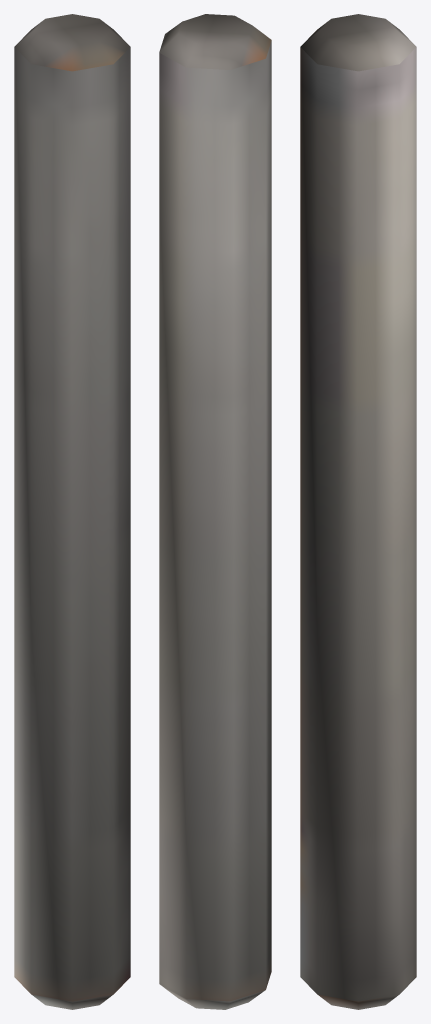
File: animal_company_-_metal_rod.glb
3 views of the same model, side by side, from view 1: azimuth 90°, elevation 25°; view 2: azimuth 150°, elevation 25°; view 3: azimuth 270°, elevation 25° (orthographic).
Visible parts, largest first — view 1: Model_6; view 2: Model_6; view 3: Model_6.
Part boxes in pixels (<box>): Model_6: <box>14,14,130,1009</box>; Model_6: <box>159,14,271,1009</box>; Model_6: <box>300,14,416,1009</box>.
Bounding box in the file's own units: 0.1475 × 1.35 × 0.1475.
Materials: 1 (1 with a texture image).
